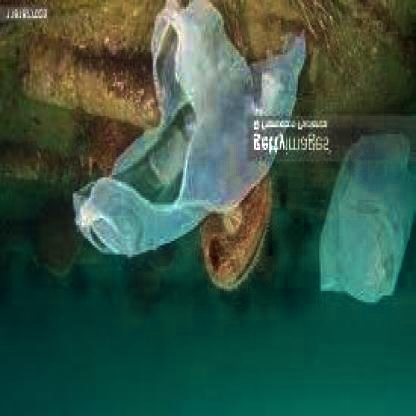pbag: (66, 2, 309, 275), (311, 123, 416, 316)
